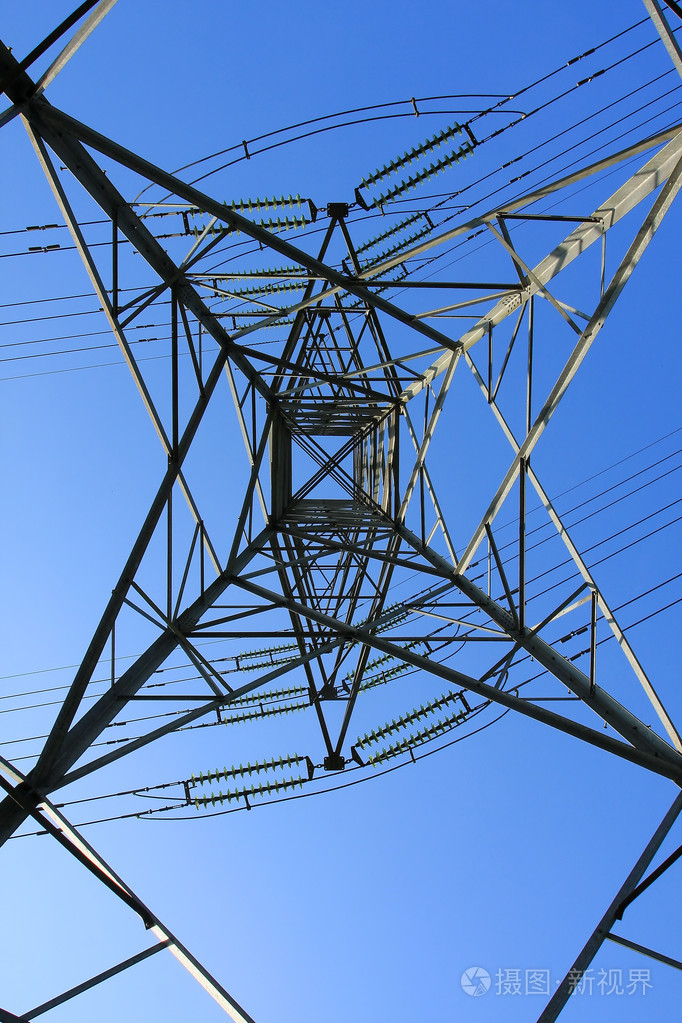insulator: (363, 121, 477, 214), (353, 689, 469, 762), (186, 192, 315, 241), (188, 756, 308, 808), (350, 211, 435, 268), (347, 638, 427, 698), (209, 260, 313, 295), (213, 683, 306, 721)
